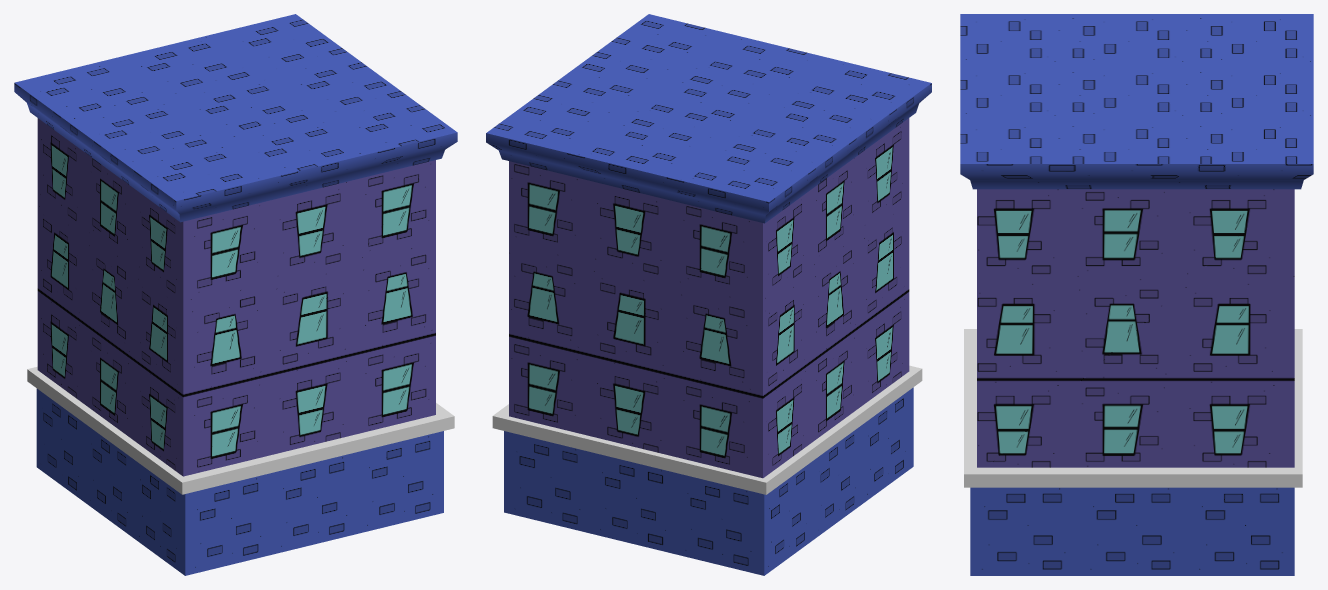
3 views of the same model, side by side, from view 1: azimuth 30°, elevation 25°; view 2: azimuth 150°, elevation 25°; view 3: azimuth 270°, elevation 25° (orthographic). The views are drawn at different scales.
Visible parts, largest first — view 1: Box003, Box004, Box001, Box002; view 2: Box003, Box004, Box001, Box002; view 3: Box003, Box004, Box001, Box002.
Boxes of the visible parts, x1=… form: Box003: x1=37, y1=118, x2=435, y2=476; Box004: x1=14, y1=14, x2=457, y2=222; Box001: x1=36, y1=388, x2=443, y2=575; Box002: x1=27, y1=366, x2=454, y2=494; Box003: x1=509, y1=118, x2=909, y2=478; Box004: x1=486, y1=14, x2=931, y2=223; Box001: x1=504, y1=387, x2=913, y2=575; Box002: x1=492, y1=365, x2=922, y2=494; Box003: x1=977, y1=189, x2=1294, y2=467; Box004: x1=960, y1=14, x2=1313, y2=189; Box001: x1=970, y1=487, x2=1294, y2=575; Box002: x1=964, y1=329, x2=1302, y2=487.
Size of the model in its own units: 8.28 by 10.73 by 8.25.
